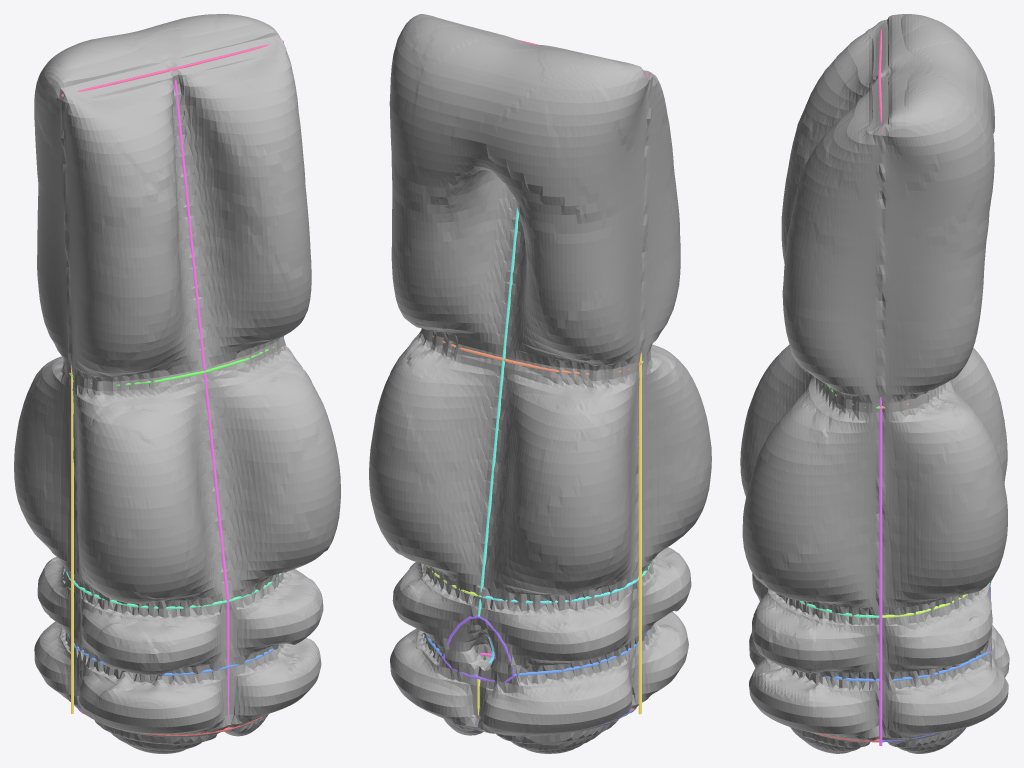
File: t2f_toothpaste.gltf
3 renders of one model, left to right at view 1: azimuth 30°, elevation 25°; view 2: azimuth 150°, elevation 25°; view 3: azimuth 270°, elevation 25°, orthographic. The views are drawn at different scales.
Size of the model in its own units: 0.3733 by 0.9734 by 0.3532.
